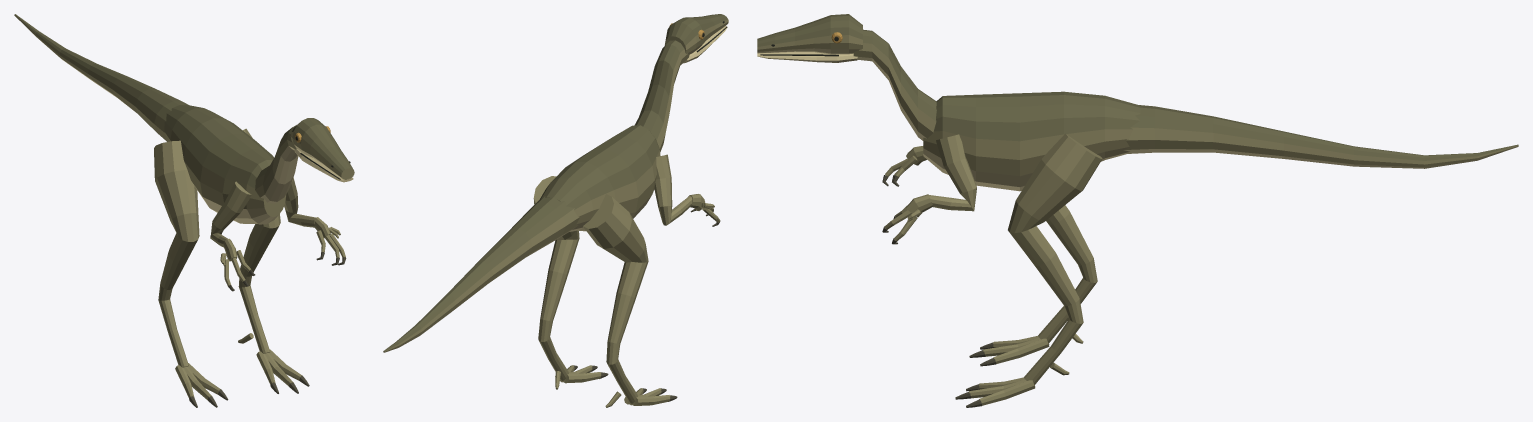
3 views of the same model, side by side, from view 1: azimuth 30°, elevation 25°; view 2: azimuth 150°, elevation 25°; view 3: azimuth 270°, elevation 25° (orthographic). The views are drawn at different scales.
Visible parts, largest first — view 1: Trunk_light_ribcage, Hindlimb_L_digitigrade, Tail_balancing_taper, Hindlimb_R_digitigrade, Head_compact_low_skull, Neck_moderate_S_profile, Forelimb_L_flexed_grasp, Foot_R_three_weightbearing_toes, Foot_L_three_weightbearing_toes, Hand_R_three_primary_two_reduced_digits, Hand_L_three_primary_two_reduced_digits, Forelimb_R_flexed_grasp (+1 smaller); view 2: Trunk_light_ribcage, Tail_balancing_taper, Hindlimb_L_digitigrade, Hindlimb_R_digitigrade, Neck_moderate_S_profile, Head_compact_low_skull, Forelimb_L_flexed_grasp, Foot_L_three_weightbearing_toes, Foot_R_three_weightbearing_toes, Hand_L_three_primary_two_reduced_digits; view 3: Trunk_light_ribcage, Tail_balancing_taper, Hindlimb_R_digitigrade, Neck_moderate_S_profile, Head_compact_low_skull, Hindlimb_L_digitigrade, Forelimb_R_flexed_grasp, Foot_R_three_weightbearing_toes, Foot_L_three_weightbearing_toes, Hand_R_three_primary_two_reduced_digits, Jaw_slender_closed.
Boxes of the visible parts, left/top/right/bottom form: Trunk_light_ribcage: left=164, top=104, right=286, bottom=224; Hindlimb_L_digitigrade: left=154, top=140, right=199, bottom=367; Tail_balancing_taper: left=14, top=14, right=188, bottom=141; Hindlimb_R_digitigrade: left=238, top=128, right=280, bottom=353; Head_compact_low_skull: left=290, top=118, right=354, bottom=179; Neck_moderate_S_profile: left=255, top=125, right=298, bottom=203; Forelimb_L_flexed_grasp: left=210, top=181, right=251, bottom=247; Foot_R_three_weightbearing_toes: left=238, top=333, right=309, bottom=393; Foot_L_three_weightbearing_toes: left=175, top=363, right=228, bottom=407; Hand_R_three_primary_two_reduced_digits: left=313, top=217, right=346, bottom=265; Hand_L_three_primary_two_reduced_digits: left=220, top=238, right=255, bottom=291; Forelimb_R_flexed_grasp: left=284, top=177, right=315, bottom=227; Trunk_light_ribcage: left=540, top=125, right=660, bottom=231; Tail_balancing_taper: left=383, top=196, right=579, bottom=352; Hindlimb_L_digitigrade: left=583, top=194, right=648, bottom=403; Hindlimb_R_digitigrade: left=533, top=176, right=579, bottom=380; Neck_moderate_S_profile: left=634, top=40, right=689, bottom=152; Head_compact_low_skull: left=664, top=14, right=728, bottom=54; Forelimb_L_flexed_grasp: left=654, top=154, right=692, bottom=225; Foot_L_three_weightbearing_toes: left=605, top=388, right=677, bottom=407; Foot_R_three_weightbearing_toes: left=555, top=365, right=608, bottom=389; Hand_L_three_primary_two_reduced_digits: left=688, top=194, right=720, bottom=226; Trunk_light_ribcage: left=923, top=91, right=1140, bottom=191; Tail_balancing_taper: left=1124, top=105, right=1518, bottom=168; Hindlimb_R_digitigrade: left=1008, top=133, right=1102, bottom=384; Neck_moderate_S_profile: left=853, top=29, right=936, bottom=140; Head_compact_low_skull: left=757, top=14, right=862, bottom=54; Hindlimb_L_digitigrade: left=1038, top=205, right=1097, bottom=343; Forelimb_R_flexed_grasp: left=929, top=134, right=976, bottom=211; Foot_R_three_weightbearing_toes: left=955, top=362, right=1069, bottom=407; Foot_L_three_weightbearing_toes: left=969, top=334, right=1083, bottom=366; Hand_R_three_primary_two_reduced_digits: left=882, top=194, right=932, bottom=244; Jaw_slender_closed: left=757, top=51, right=857, bottom=62.
Bounding box in the file's own units: 0.2657 × 0.6829 × 1.3.
